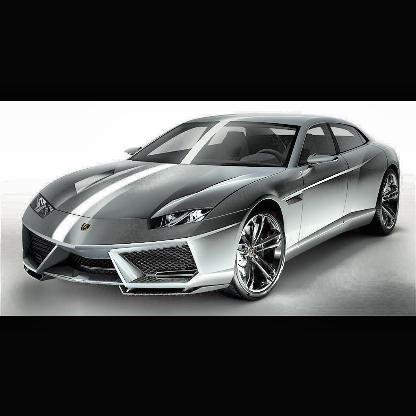Lamborghini Reventon Coupe 2008: (24, 113, 401, 301)
